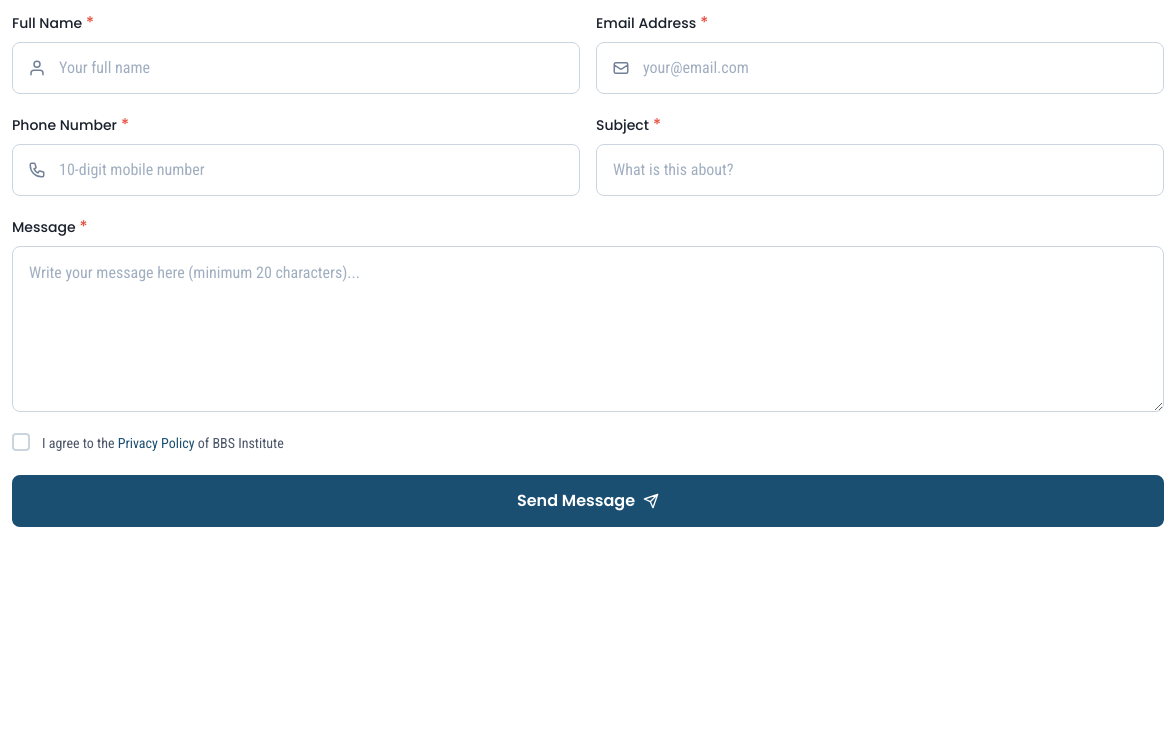
it: MainContactForm › shows validation errors if submitted with empty fields
Click the button "Send Message": x=588, y=501 [12,475,1164,527]
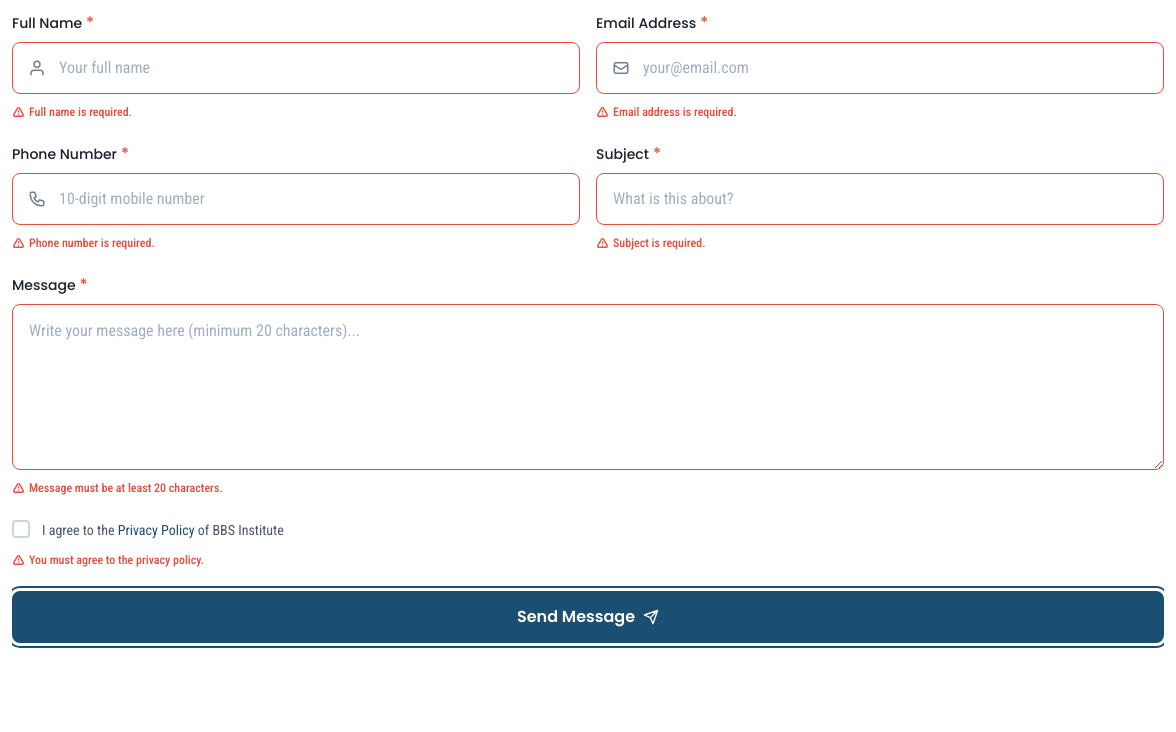
Expected: the text "Full name is required." is shown, [12,105,132,119]
Expected: the text "Email address is required." is shown, [596,105,737,119]
Expected: the text "Phone number is required." is shown, [12,236,155,250]
